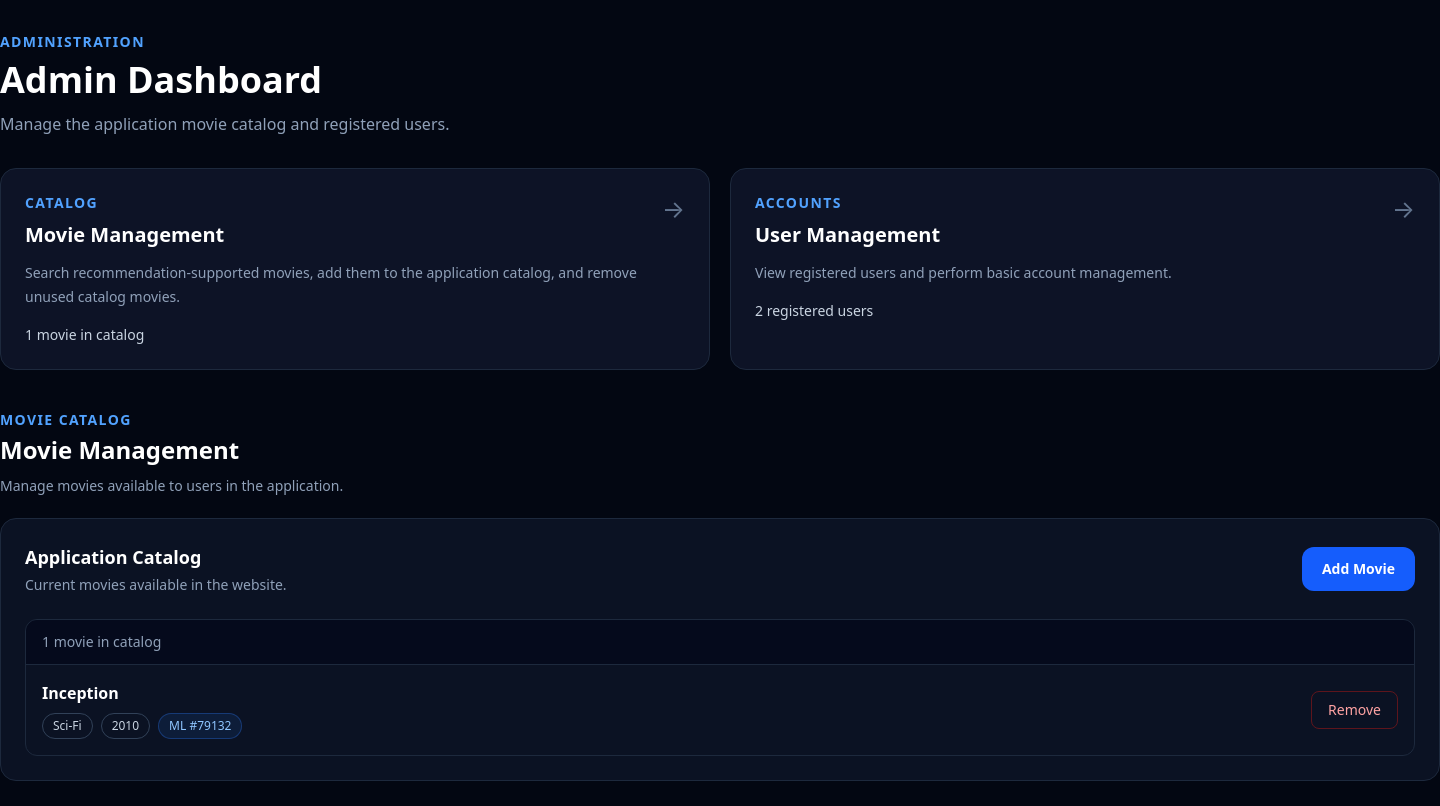
it: AdminDashboard › searches the ML catalog and adds a movie
Expected: the link "Inception" is shown, [42,682,119,704]
Click the button "Add Movie": (1358, 569) [1302,547,1415,591]
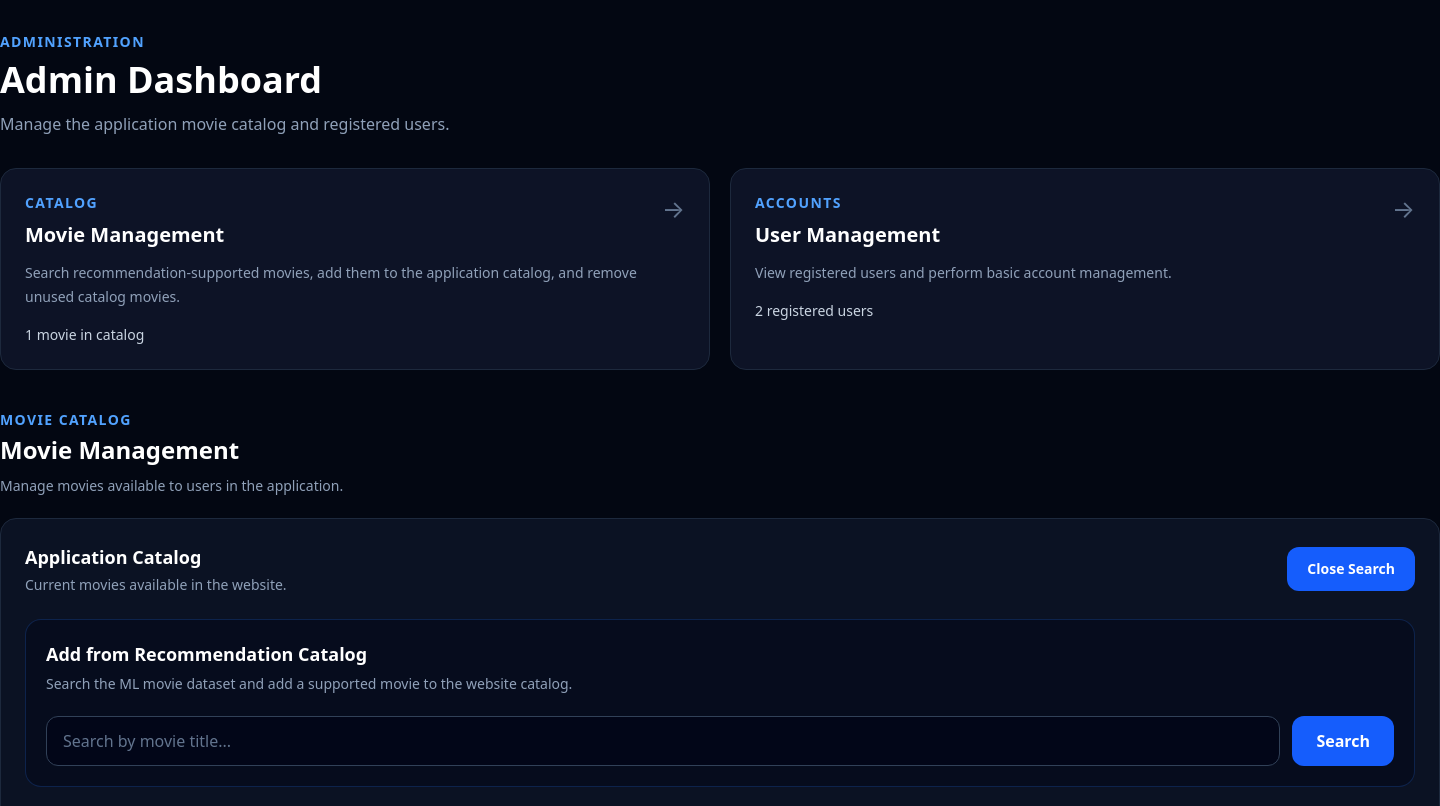
In the search field named "Search ML movies": (663, 741) [46,716,1280,766], type "  Dark Knight  "
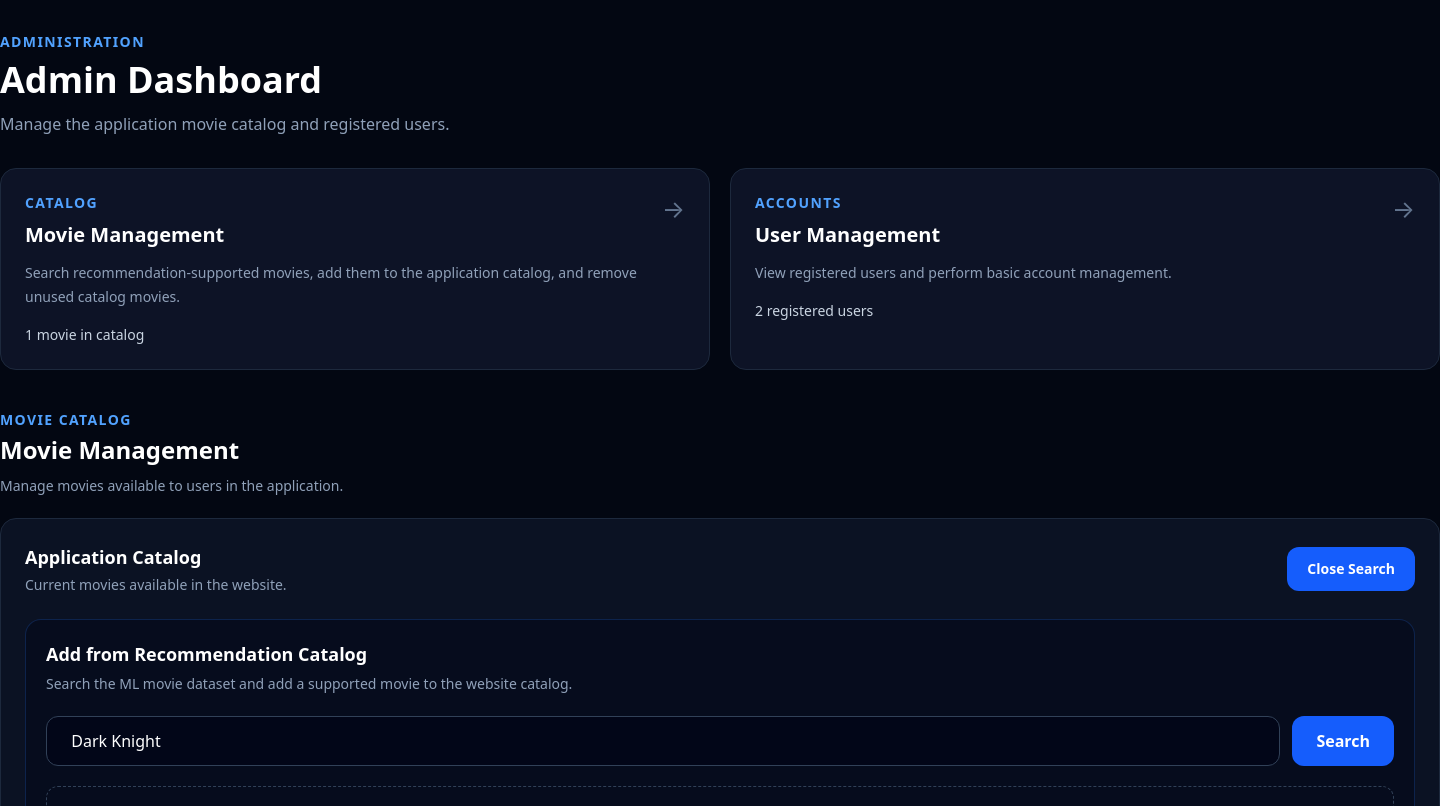
Click the button "Search": (1343, 741) [1292,716,1394,766]
(page scrolled)
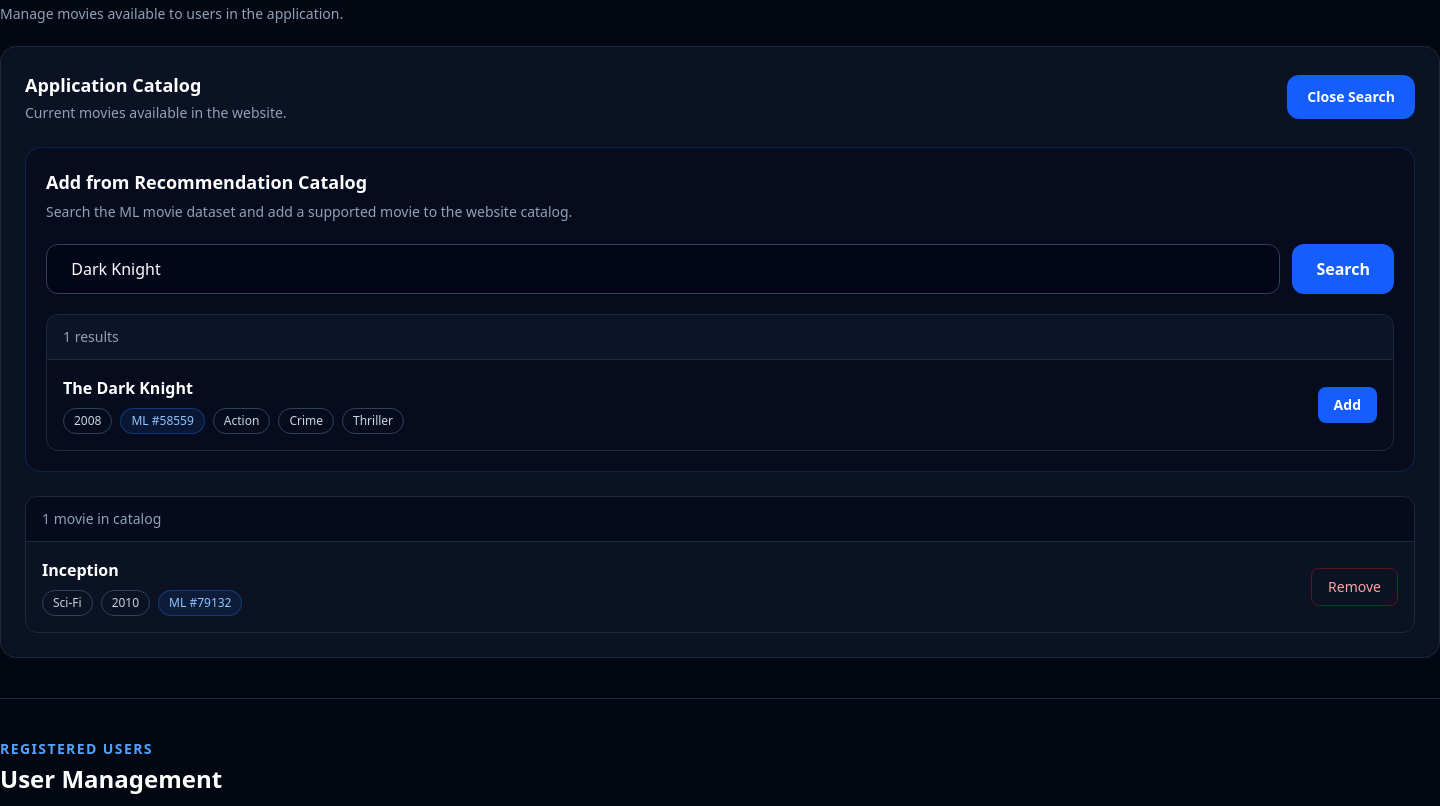
Result: the heading "The Dark Knight" is shown at [63,377,193,399]
Click the button "Add": (1347, 405) [1318,387,1377,423]
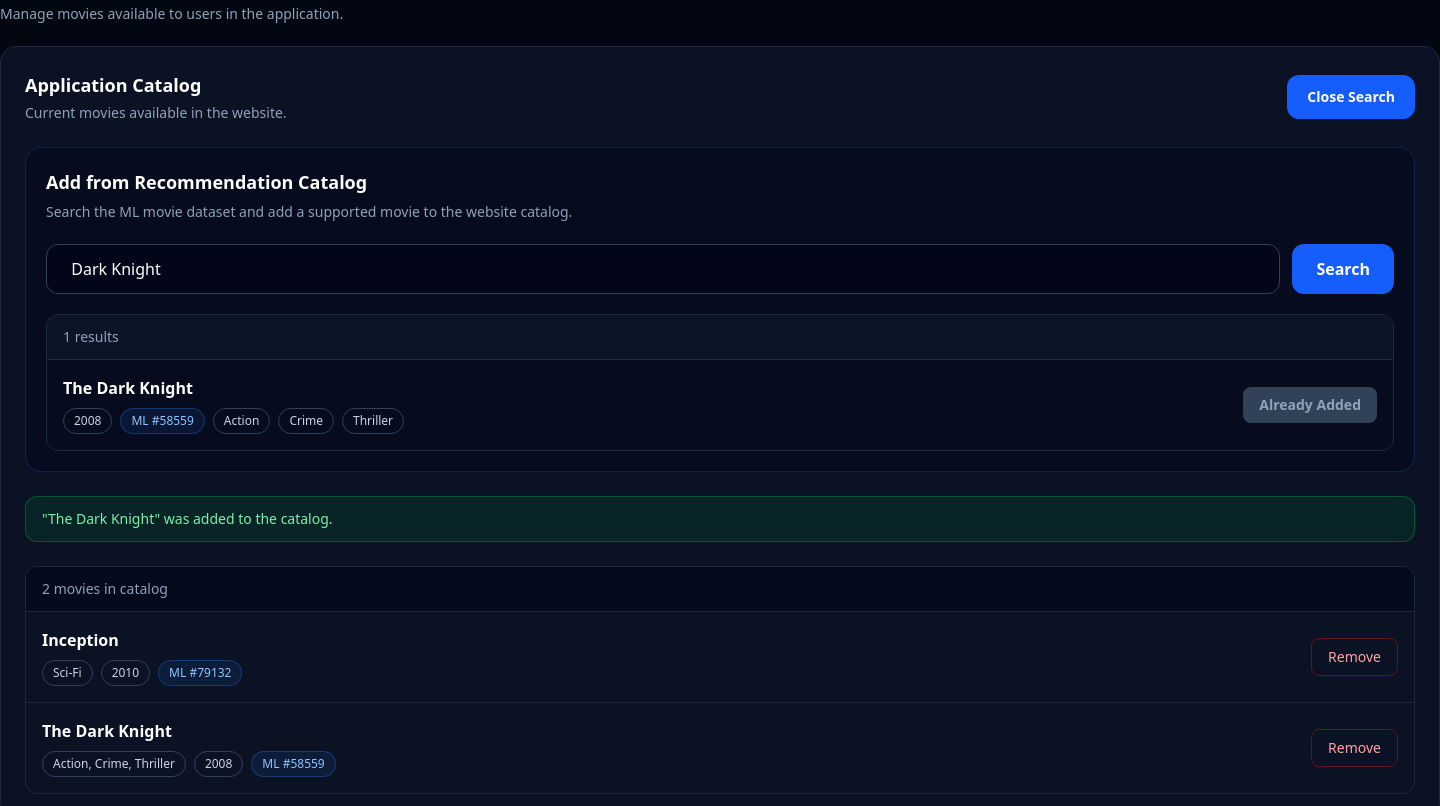
Result: the text "\"The Dark Knight\" was added to the catalog." is shown at [42,509,333,528]
